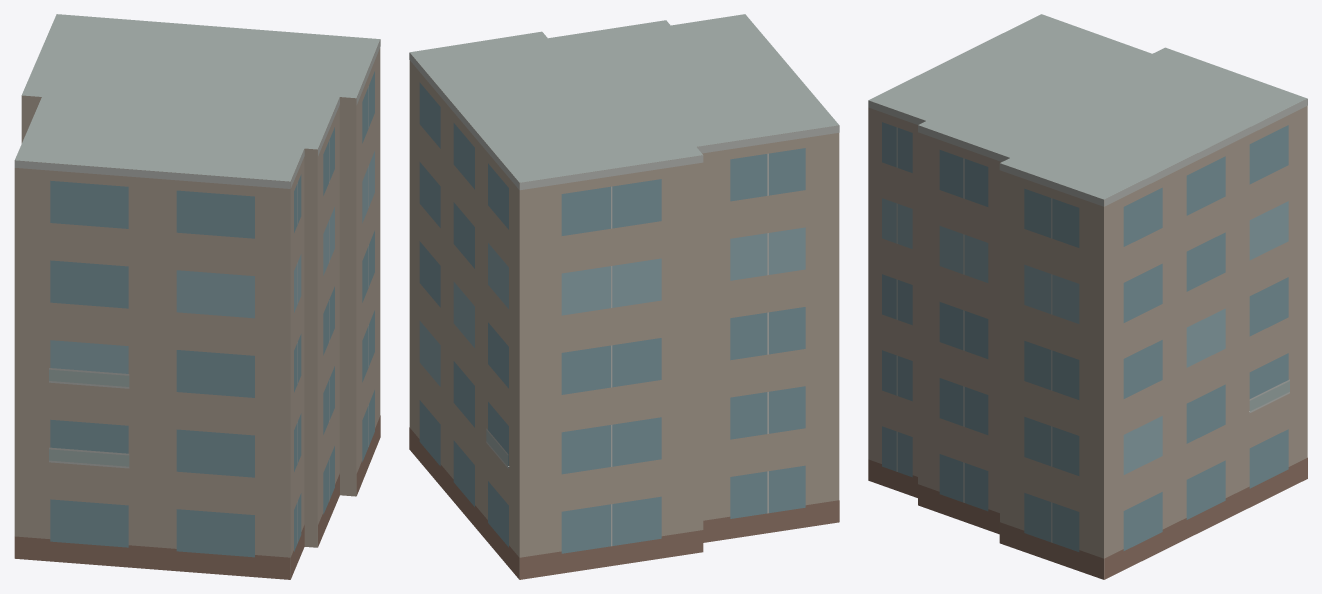
Rendered from survey-upis-33032120.glb.
3 renders of one model, left to right at view 1: azimuth 30°, elevation 25°; view 2: azimuth 150°, elevation 25°; view 3: azimuth 270°, elevation 25°, orthographic. The views are drawn at different scales.
Parts seen in each view (by area): view 1: survey-upis-33032120.tmp; view 2: survey-upis-33032120.tmp; view 3: survey-upis-33032120.tmp.
Boxes of the visible parts, x1,y1,x2,y2 form: survey-upis-33032120.tmp: (14, 14, 380, 579); survey-upis-33032120.tmp: (409, 14, 839, 579); survey-upis-33032120.tmp: (868, 14, 1307, 579).
Bounding box in the file's own units: 13.62 × 13 × 13.62.
